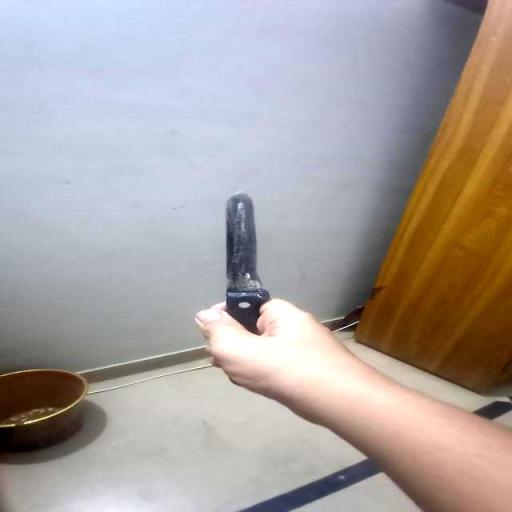knife: (193, 179, 273, 378)
